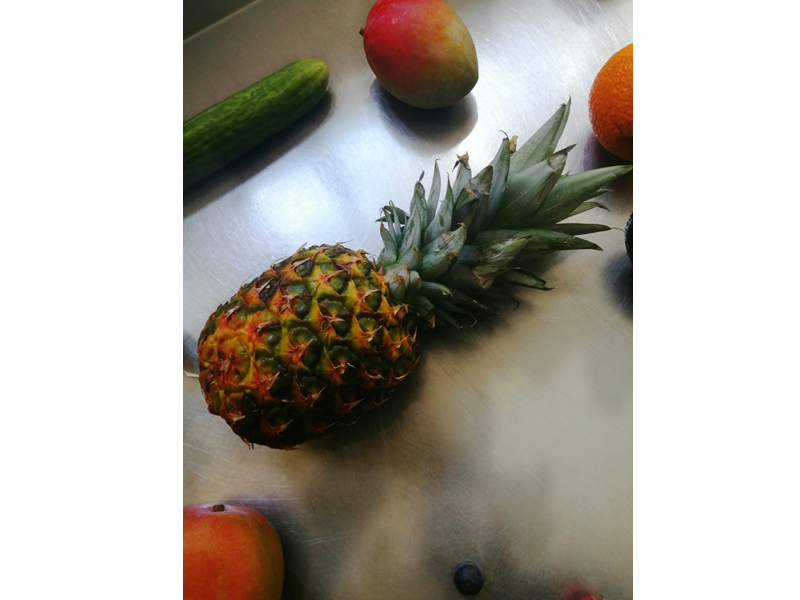pineapple: (194, 179, 461, 469)
